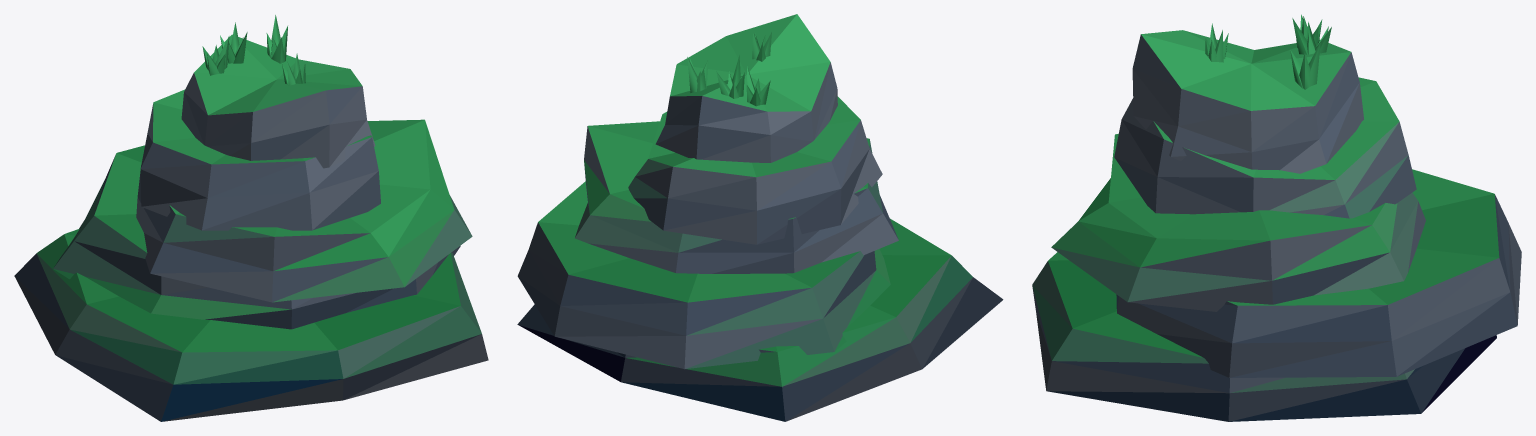
Rendered from batu_slate_granite_670844.glb.
3 views of the same model, side by side, from view 1: azimuth 30°, elevation 25°; view 2: azimuth 150°, elevation 25°; view 3: azimuth 270°, elevation 25° (orthographic). The views are drawn at different scales.
Parts seen in each view (by area): view 1: Batu_Pipih_Bertumpuk; view 2: Batu_Pipih_Bertumpuk; view 3: Batu_Pipih_Bertumpuk.
Boxes of the visible parts, x1,y1,x2,y2 form: Batu_Pipih_Bertumpuk: (14,15,488,421); Batu_Pipih_Bertumpuk: (517,14,1003,421); Batu_Pipih_Bertumpuk: (1032,14,1521,421).
Bounding box in the file's own units: 4.63 × 3.26 × 4.75.
